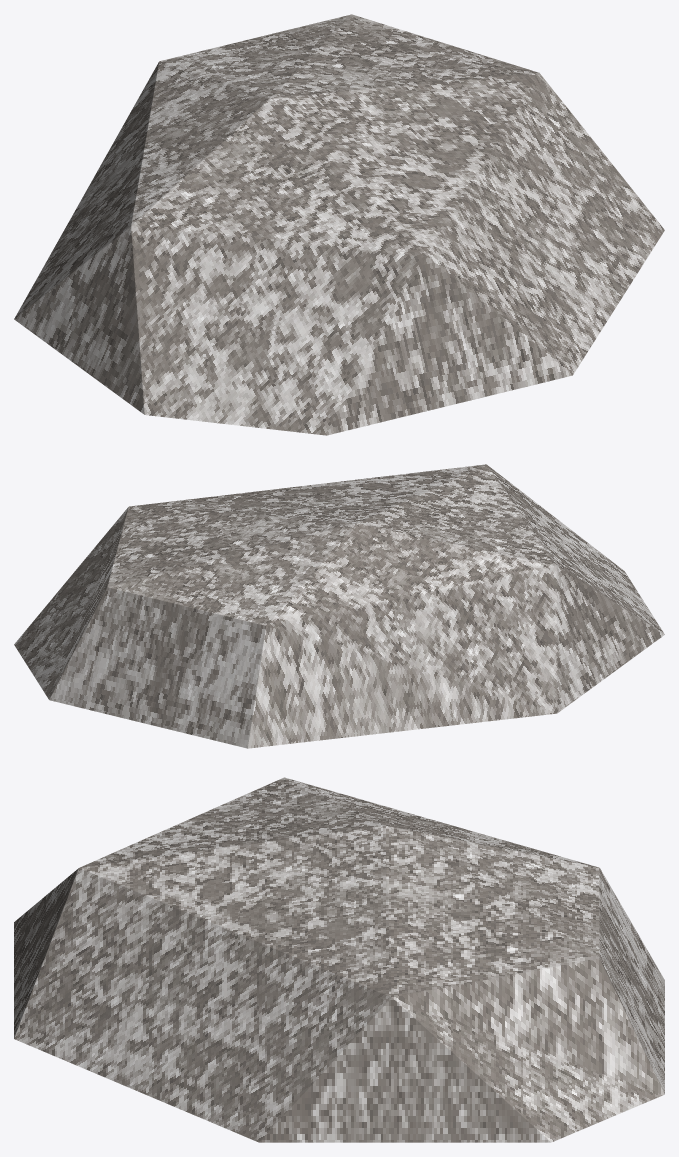
File: garden_rock_0.glb
3 renders of one model, top to bottom at view 1: azimuth 30°, elevation 25°; view 2: azimuth 150°, elevation 25°; view 3: azimuth 270°, elevation 25°, orthographic. The views are drawn at different scales.
Parts seen in each view (by area): view 1: garden_rock_0; view 2: garden_rock_0; view 3: garden_rock_0.
Part boxes in pixels (<box>): garden_rock_0: <box>14,14,664,435</box>; garden_rock_0: <box>14,464,664,748</box>; garden_rock_0: <box>14,777,664,1142</box>.
Bounding box in the file's own units: 1 × 0.2716 × 1.
1 material, 1 textured.
